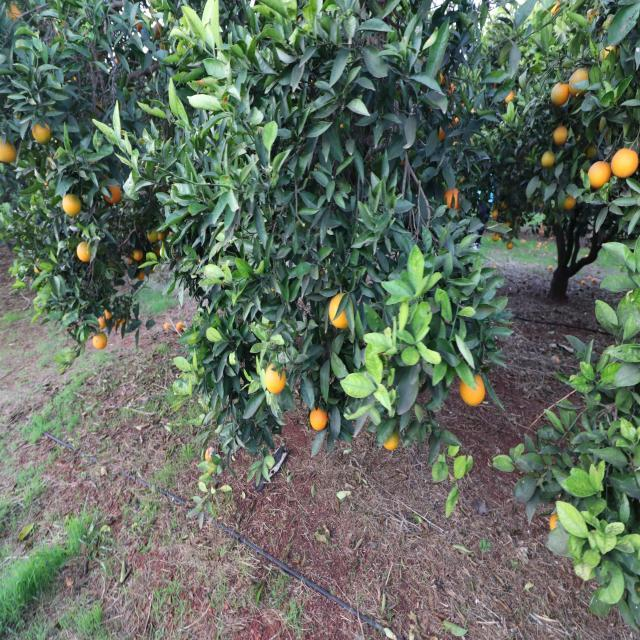Jeruk Belum Matang: (568, 70, 590, 96), (32, 118, 50, 144), (384, 431, 399, 453), (442, 188, 459, 206), (541, 152, 556, 166), (146, 230, 156, 242)
Jeruk Sudah Matang: (460, 375, 485, 408), (612, 149, 638, 176), (330, 292, 348, 329), (264, 363, 286, 391), (588, 162, 611, 188), (0, 137, 18, 164), (62, 194, 81, 217), (309, 408, 328, 431), (550, 82, 568, 105), (105, 185, 120, 202), (77, 243, 91, 261), (554, 126, 568, 144), (94, 334, 106, 351), (564, 197, 576, 209), (132, 251, 142, 261)
